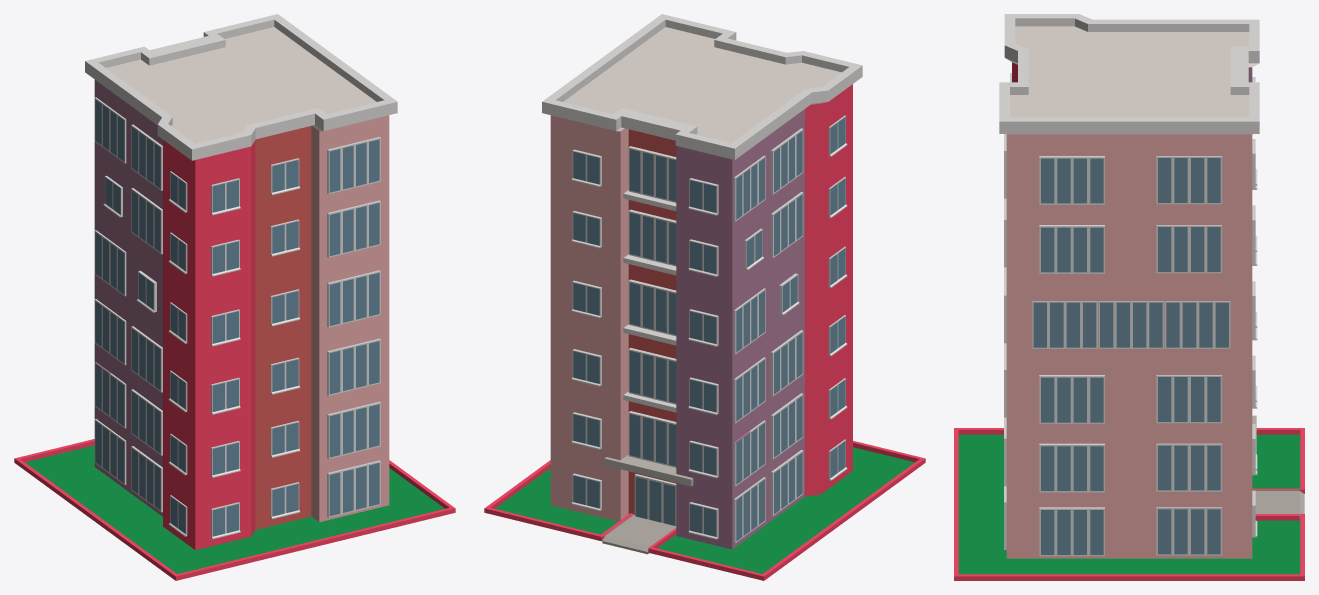
Rendered from apartment_lonely_High_2.fbx.
3 views of the same model, side by side, from view 1: azimuth 30°, elevation 25°; view 2: azimuth 150°, elevation 25°; view 3: azimuth 270°, elevation 25° (orthographic). The views are drawn at different scales.
Visible parts, largest first — view 1: Appartment, Ground; view 2: Appartment, Ground; view 3: Appartment, Ground.
Boxes of the visible parts, x1=… form: Appartment: x1=85, y1=14, x2=397, y2=550; Ground: x1=14, y1=439, x2=455, y2=580; Appartment: x1=542, y1=14, x2=862, y2=549; Ground: x1=484, y1=441, x2=925, y2=580; Appartment: x1=999, y1=14, x2=1259, y2=558; Ground: x1=954, y1=428, x2=1304, y2=580.
Size of the model in its own units: 20 by 27.8 by 20.
